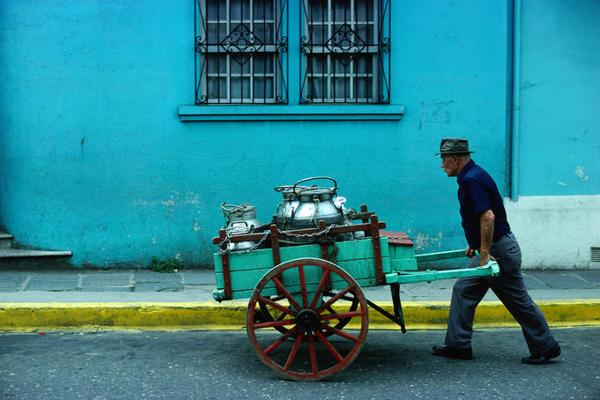person: (438, 133, 562, 368)
